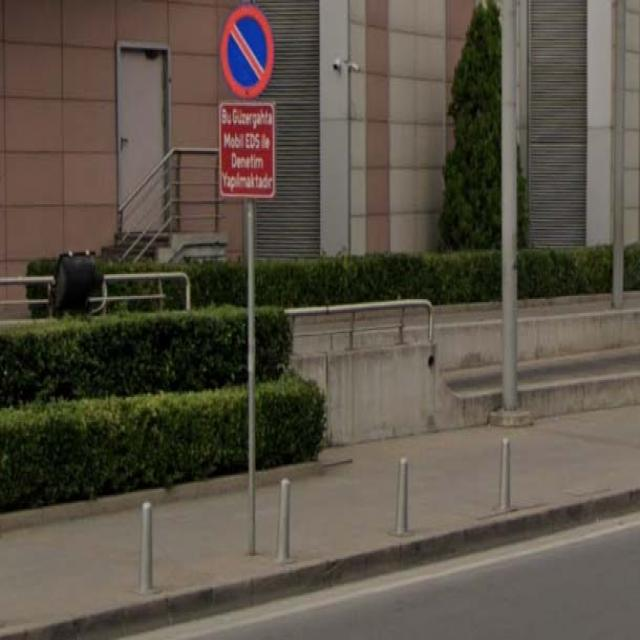parkyasak: (220, 6, 275, 100)
